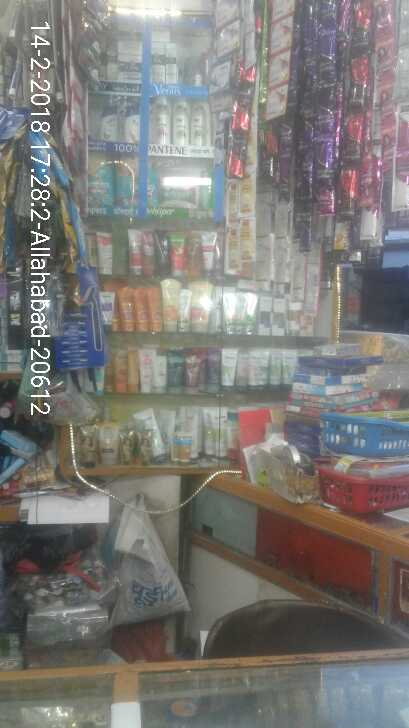gillete: (59, 268, 102, 366), (27, 121, 72, 192), (61, 195, 89, 262), (27, 268, 55, 332), (1, 128, 24, 202), (1, 207, 13, 252)
